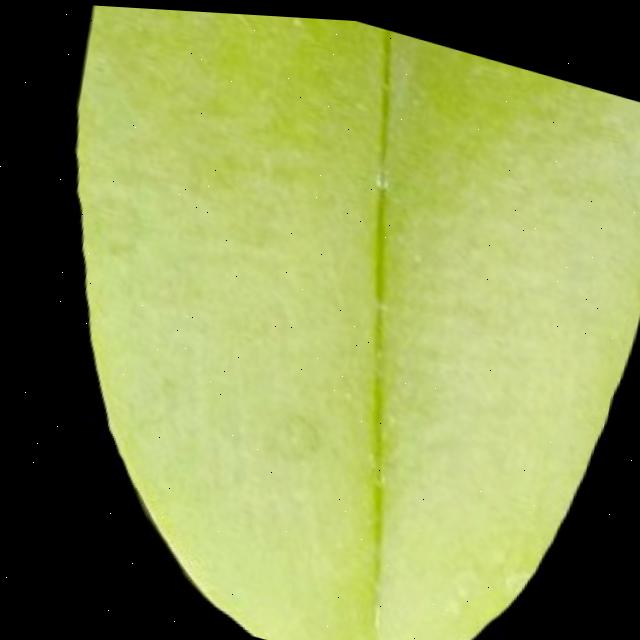mite: (271, 399, 319, 456)
spots: (20, 4, 640, 640)
